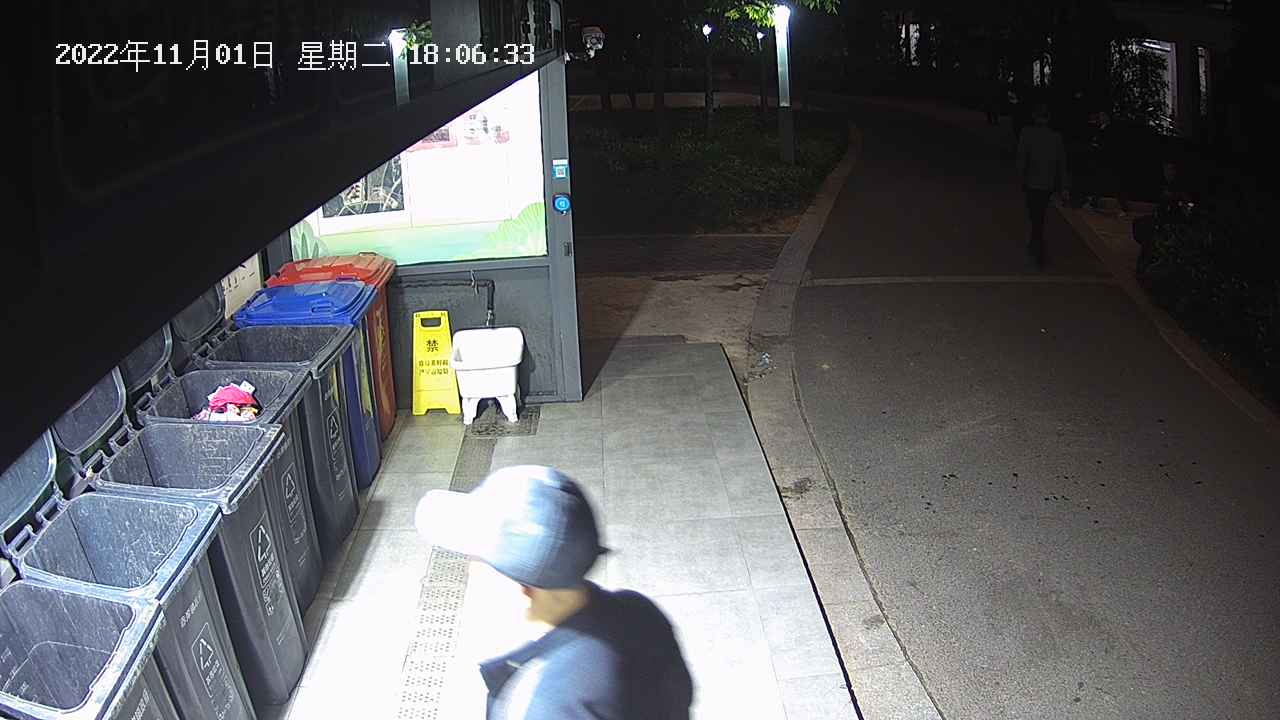person: (412, 463, 695, 720)
